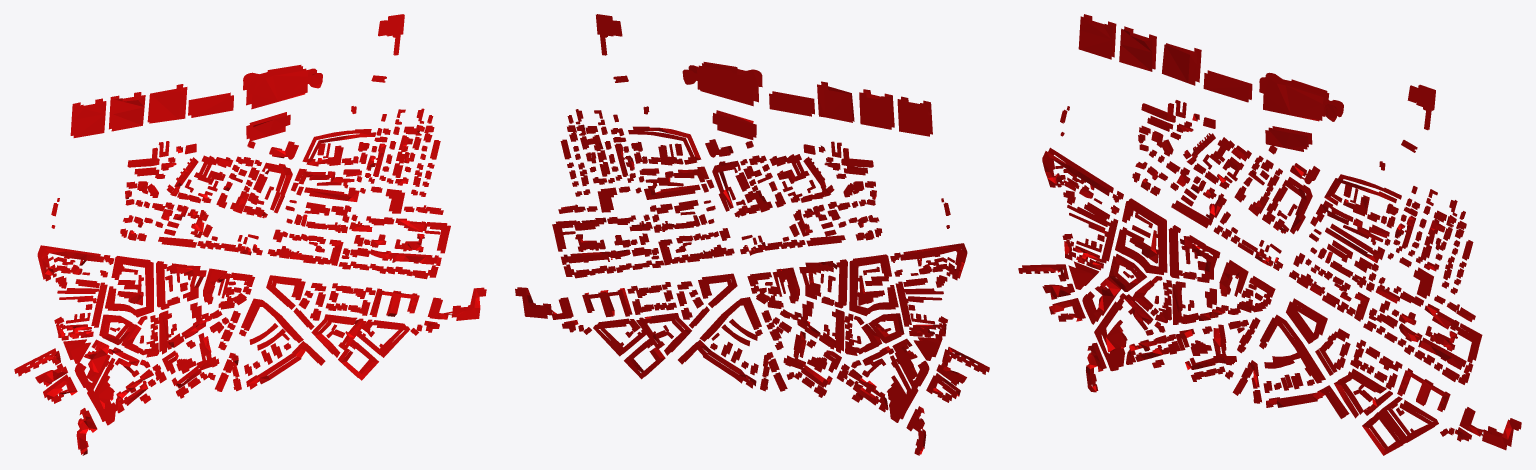
Rendered from BDTopoToit.obj.
3 renders of one model, left to right at view 1: azimuth 30°, elevation 25°; view 2: azimuth 150°, elevation 25°; view 3: azimuth 330°, elevation 25°, orthographic. The views are drawn at different scales.
Parts seen in each view (by area): view 1: 344, 235, 150, 184, 157, 226, 126, 89, 312, 263, 165, 39 (+13 smaller); view 2: 344, 235, 184, 150, 157, 226, 89, 126, 312, 165, 39, 263 (+14 smaller); view 3: 344, 235, 184, 157, 150, 226, 222, 89, 312, 216, 2, 126 (+14 smaller).
Part boxes in pixels (x1,y1,x2,y2): 344: (243, 65, 322, 109); 235: (105, 256, 153, 317); 150: (147, 84, 187, 123); 184: (109, 92, 145, 131); 157: (70, 98, 106, 137); 226: (37, 245, 104, 281); 126: (246, 341, 325, 389); 89: (427, 287, 486, 320); 312: (188, 92, 233, 117); 263: (87, 354, 116, 425); 165: (246, 112, 290, 141); 39: (302, 129, 376, 166); 344: (682, 62, 762, 106); 235: (849, 254, 898, 316); 184: (859, 89, 894, 129); 150: (817, 81, 854, 122); 157: (897, 96, 932, 136); 226: (900, 243, 967, 280); 89: (515, 287, 573, 319); 126: (678, 340, 756, 388); 312: (769, 91, 814, 116); 165: (712, 110, 756, 139); 39: (628, 126, 701, 164); 263: (889, 353, 918, 422); 344: (1259, 72, 1343, 121); 235: (1115, 198, 1167, 274); 184: (1119, 26, 1156, 71); 157: (1078, 14, 1116, 59); 150: (1162, 43, 1201, 85); 226: (1042, 147, 1113, 195); 222: (1260, 314, 1325, 383); 89: (1459, 407, 1521, 450); 312: (1203, 70, 1252, 102); 216: (1286, 298, 1327, 343); 2: (1381, 400, 1438, 442); 126: (1266, 385, 1349, 418).
Size of the model in its own units: 1073 by 792 by 30.2.
